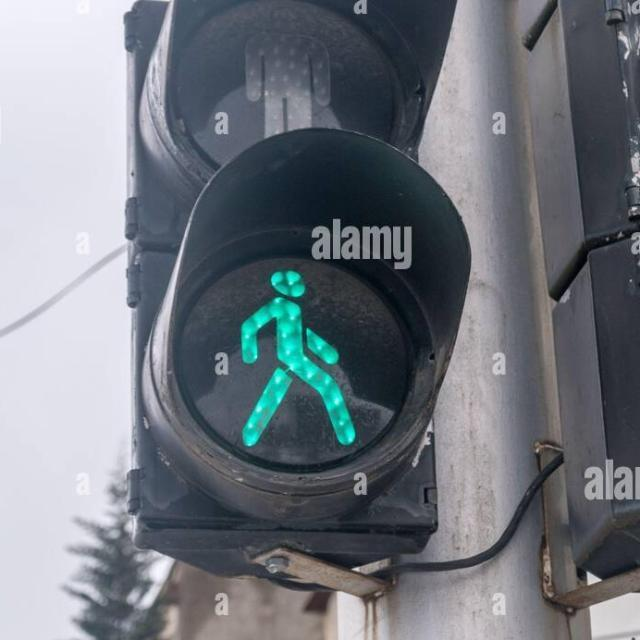geen-crossing: (235, 257, 352, 456)
